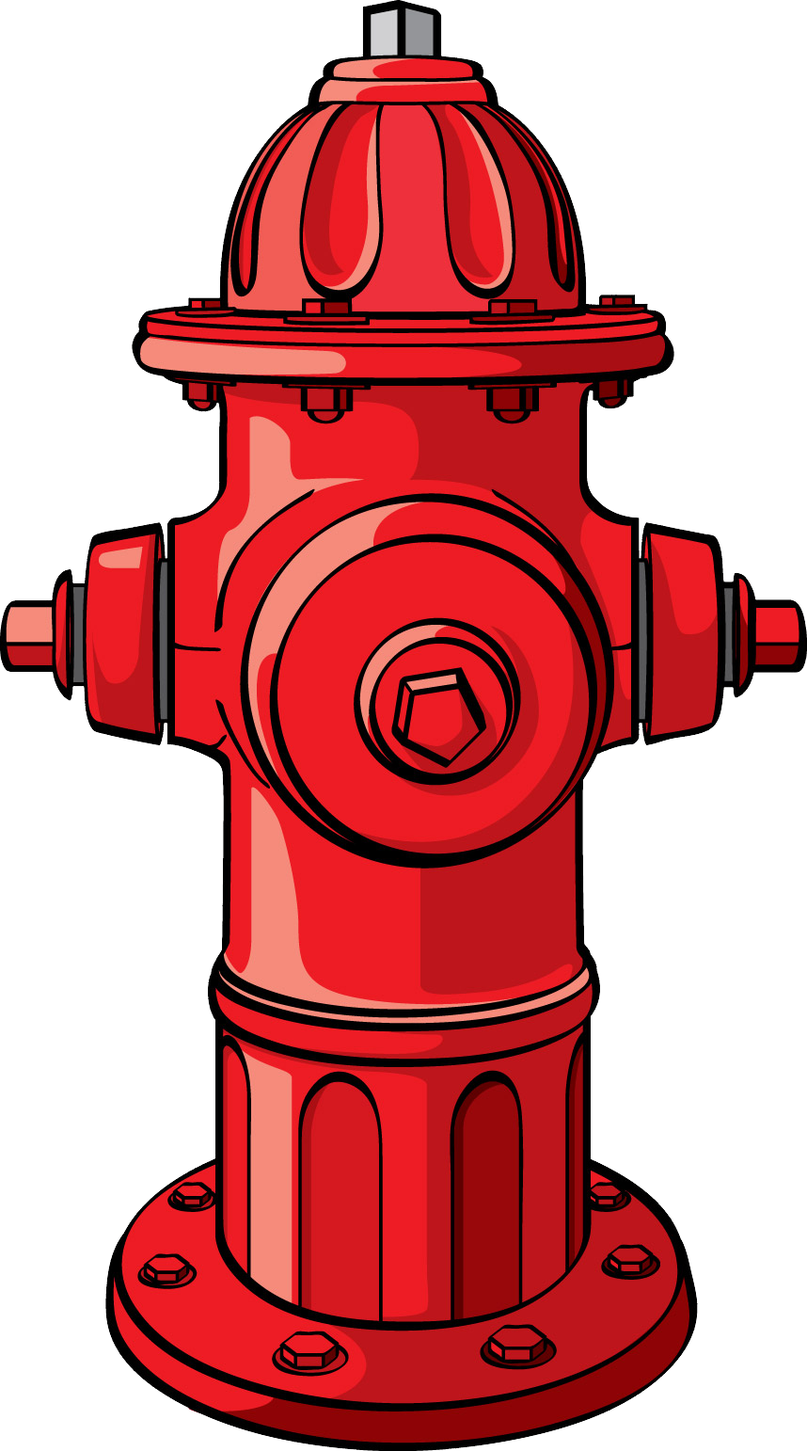FireHydrant: (24, 17, 807, 1445)
